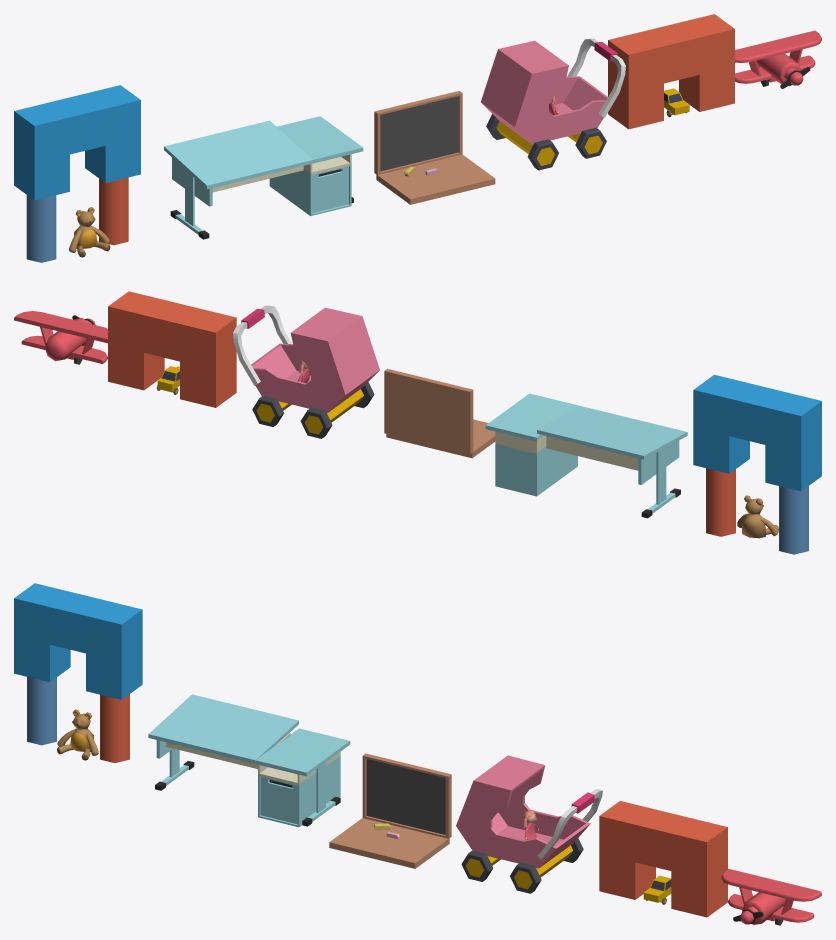
File: Level_9.fbx
3 views of the same model, one above another, from view 1: azimuth 30°, elevation 25°; view 2: azimuth 150°, elevation 25°; view 3: azimuth 330°, elevation 25° (orthographic).
Parts seen in each view (by area): view 1: Table2, Credle2, Box2, Box1, Board2, Areoplane, pCylinder2, pCylinder5, Teddy_Bear2, Car; view 2: Table2, Credle2, Box2, Box1, Board2, Areoplane, pCylinder2, pCylinder5, Teddy_Bear2, Car; view 3: Table2, Box2, Box1, Credle2, Board2, Areoplane, pCylinder5, pCylinder2, Teddy_Bear2.
Boxes of the visible parts, left/top/right/bottom form: Table2: left=164, top=116, right=363, bottom=239; Credle2: left=481, top=38, right=625, bottom=170; Box2: left=14, top=85, right=140, bottom=200; Box1: left=608, top=14, right=734, bottom=129; Board2: left=374, top=91, right=495, bottom=204; Areoplane: left=735, top=30, right=821, bottom=88; pCylinder2: left=26, top=195, right=56, bottom=262; pCylinder5: left=99, top=177, right=128, bottom=245; Teddy_Bear2: left=69, top=207, right=110, bottom=257; Car: left=664, top=88, right=689, bottom=117; Table2: left=485, top=393, right=687, bottom=518; Credle2: left=233, top=305, right=379, bottom=438; Box2: left=693, top=374, right=821, bottom=491; Box1: left=108, top=291, right=236, bottom=407; Board2: left=384, top=368, right=495, bottom=458; Areoplane: left=14, top=311, right=107, bottom=364; pCylinder2: left=779, top=486, right=808, bottom=554; pCylinder5: left=706, top=468, right=735, bottom=536; Teddy_Bear2: left=737, top=495, right=778, bottom=538; Car: left=156, top=366, right=179, bottom=394; Table2: left=148, top=694, right=350, bottom=827; Box2: left=14, top=583, right=142, bottom=699; Box1: left=599, top=801, right=727, bottom=917; Credle2: left=456, top=755, right=602, bottom=893; Board2: left=329, top=753, right=451, bottom=868; Areoplane: left=721, top=869, right=821, bottom=925; pCylinder5: left=100, top=694, right=129, bottom=762; pCylinder2: left=27, top=677, right=56, bottom=745; Teddy_Bear2: left=57, top=709, right=98, bottom=760.
Size of the model in its own units: 28.29 by 4.86 by 3.44.
